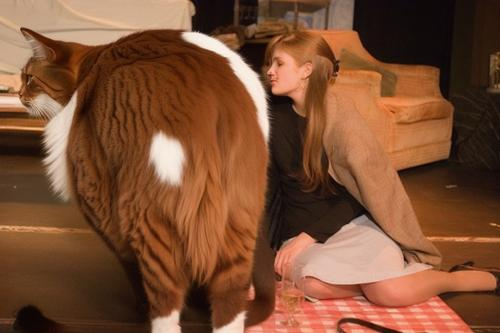bottle: (162, 238, 190, 305)
cat: (19, 28, 274, 332)
chair: (303, 28, 455, 174)
person: (274, 26, 497, 308)
person/foot: (449, 265, 500, 293)
person/hand: (271, 233, 317, 278)
person/head: (271, 31, 335, 96)
